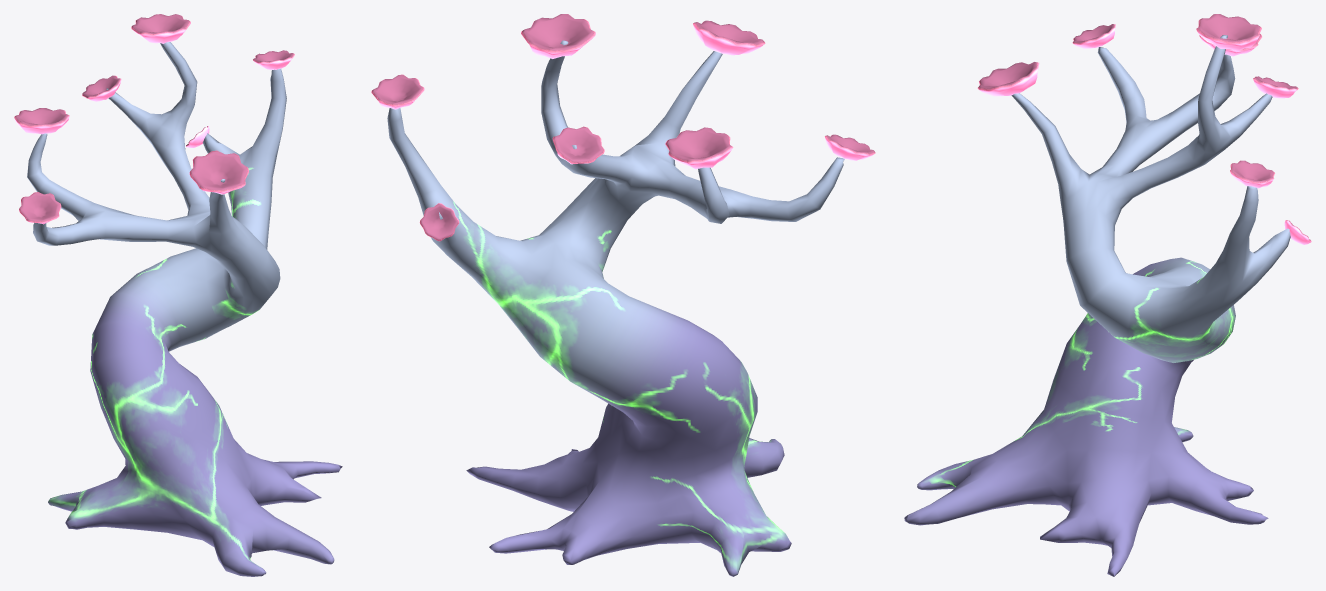
File: SM_Tree_5_Dead.fbx
3 views of the same model, side by side, from view 1: azimuth 30°, elevation 25°; view 2: azimuth 150°, elevation 25°; view 3: azimuth 270°, elevation 25° (orthographic). The views are drawn at different scales.
Visible parts, largest first — view 1: Arbres_2.001, Feuilles_Abres2_LP.001, Feuilles_Abres203_LP.001, Feuilles_Abres204_LP.001, Feuilles_Abres206_LP.001, Feuilles_Abres205_LP.001, Feuilles_Abres201_LP.001; view 2: Arbres_2.001, Feuilles_Abres203_LP.001, Feuilles_Abres204_LP.001, Feuilles_Abres2_LP.001, Feuilles_Abres205_LP.001, Feuilles_Abres201_LP.001, Feuilles_Abres202_LP.001, Feuilles_Abres206_LP.001; view 3: Arbres_2.001, Feuilles_Abres203_LP.001, Feuilles_Abres2_LP.001, Feuilles_Abres201_LP.001, Feuilles_Abres206_LP.001, Feuilles_Abres205_LP.001.
Part boxes in pixels (x1,y1,x2,y2): Arbres_2.001: [27, 42, 342, 576]; Feuilles_Abres2_LP.001: [189, 150, 248, 194]; Feuilles_Abres203_LP.001: [131, 14, 190, 43]; Feuilles_Abres204_LP.001: [14, 108, 69, 134]; Feuilles_Abres206_LP.001: [19, 192, 61, 224]; Feuilles_Abres205_LP.001: [82, 75, 121, 101]; Feuilles_Abres201_LP.001: [253, 50, 294, 69]; Arbres_2.001: [387, 40, 844, 576]; Feuilles_Abres203_LP.001: [521, 14, 595, 58]; Feuilles_Abres204_LP.001: [665, 127, 733, 169]; Feuilles_Abres2_LP.001: [693, 20, 765, 55]; Feuilles_Abres205_LP.001: [552, 126, 604, 164]; Feuilles_Abres201_LP.001: [371, 74, 424, 109]; Feuilles_Abres202_LP.001: [419, 203, 459, 241]; Feuilles_Abres206_LP.001: [825, 134, 875, 160]; Arbres_2.001: [904, 35, 1290, 576]; Feuilles_Abres203_LP.001: [1196, 14, 1261, 50]; Feuilles_Abres2_LP.001: [977, 62, 1039, 96]; Feuilles_Abres201_LP.001: [1230, 160, 1274, 188]; Feuilles_Abres206_LP.001: [1072, 24, 1115, 48]; Feuilles_Abres205_LP.001: [1253, 76, 1298, 98].
Bounding box in the file's own units: 86.75 × 109 × 81.61.
